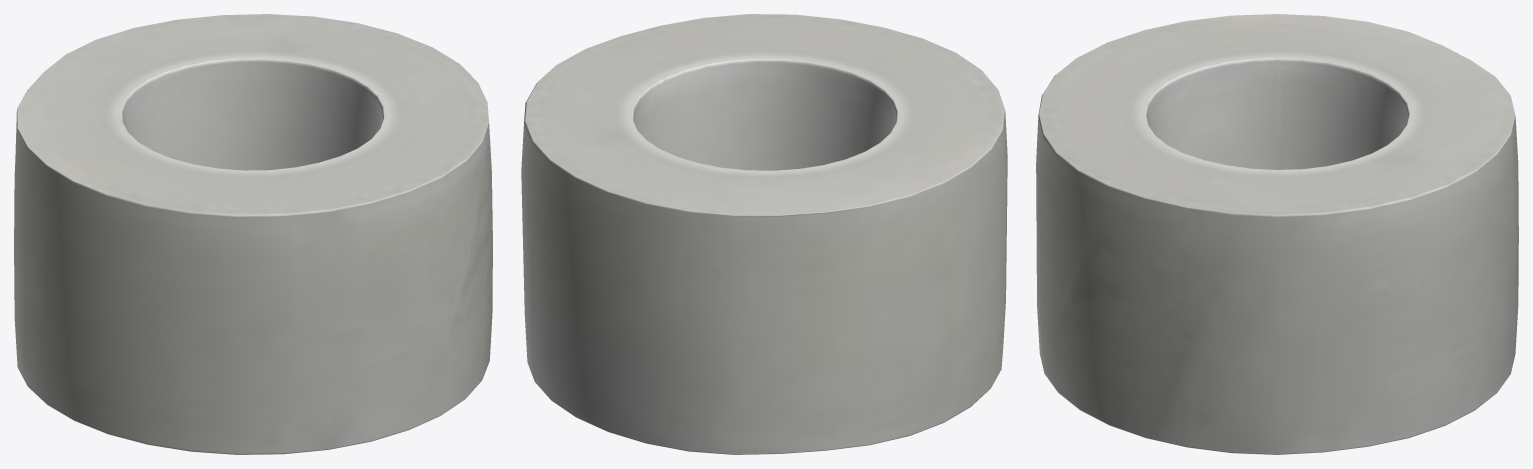
Rendered from fita.glb.
The picture shows the model from 3 angles, left to right: view 1: azimuth 30°, elevation 25°; view 2: azimuth 150°, elevation 25°; view 3: azimuth 270°, elevation 25°; orthographic projection.
Visible parts, largest first — view 1: Malha; view 2: Malha; view 3: Malha.
Boxes of the visible parts, x1=… form: Malha: x1=14, y1=14, x2=492, y2=454; Malha: x1=521, y1=14, x2=1007, y2=454; Malha: x1=1036, y1=14, x2=1518, y2=454.
Size of the model in its own units: 0.1 by 0.0553 by 0.0997.
1 material, 1 textured.
